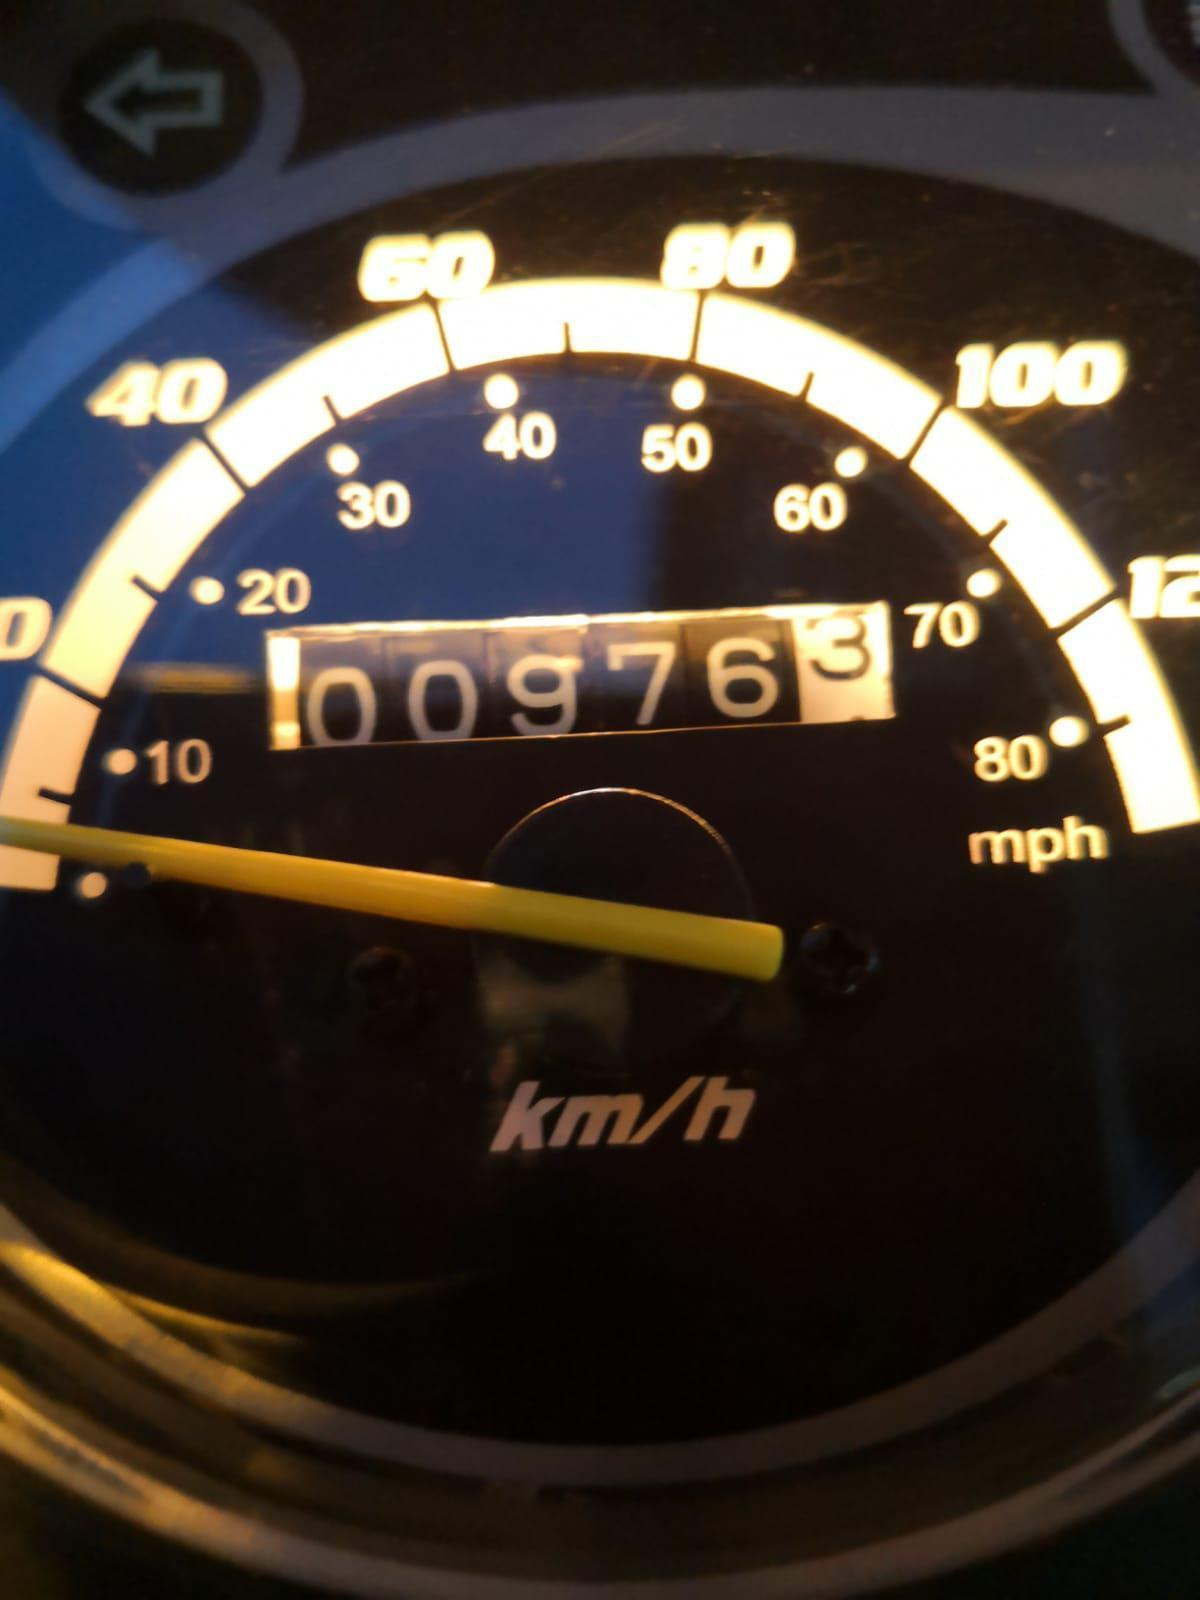0: (303, 658, 387, 755), (402, 655, 487, 746)
3: (799, 603, 877, 692)
6: (705, 632, 780, 727)
7: (603, 632, 681, 729)
9: (505, 646, 580, 745)
odometer: (251, 595, 909, 763)
